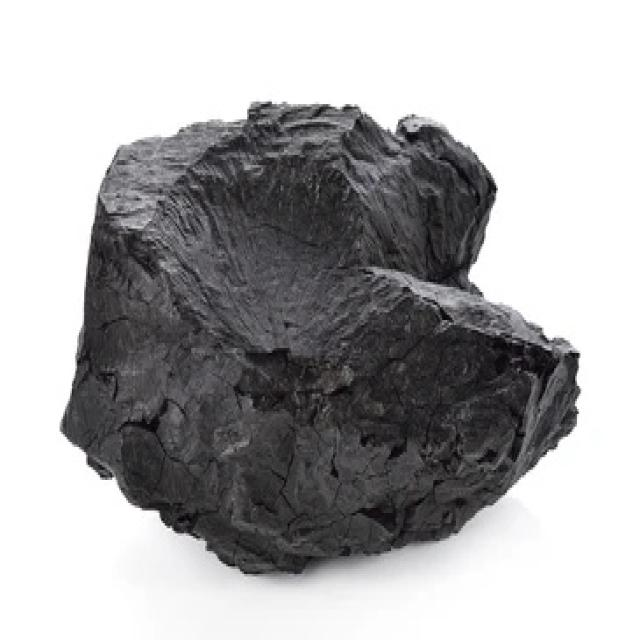Sedimentary: (61, 74, 584, 579)
